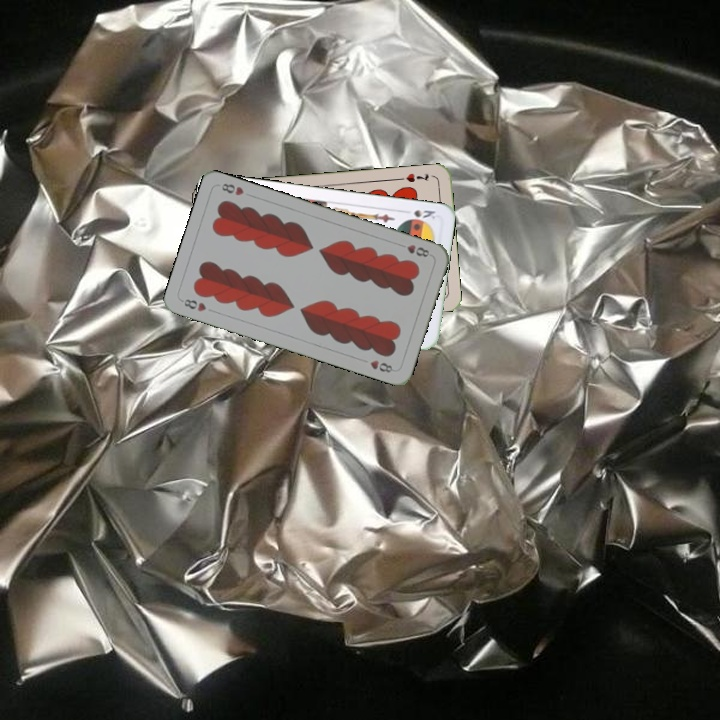H7: (395, 169, 431, 185)
H8: (178, 295, 209, 314), (403, 240, 432, 260)
SK: (410, 205, 438, 222)
